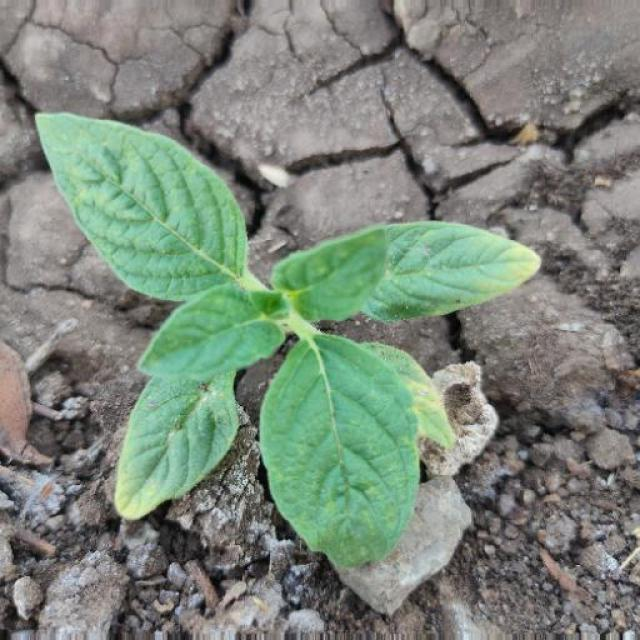crop: (26, 103, 546, 575)
